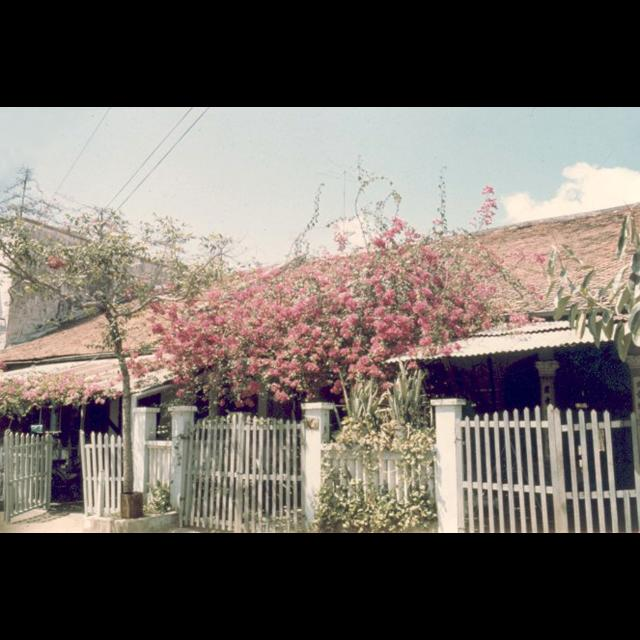Flower: (0, 192, 550, 412), (468, 181, 509, 227)
